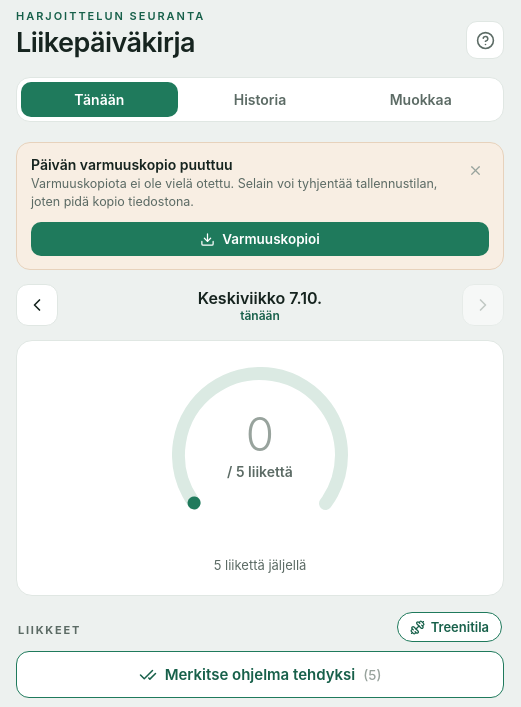
it: Historia range switching › draws the weekly trend chart for 30 pv without losing the view
Step 1. Click the button "Historia" → [260, 100], box [182, 82, 338, 117]
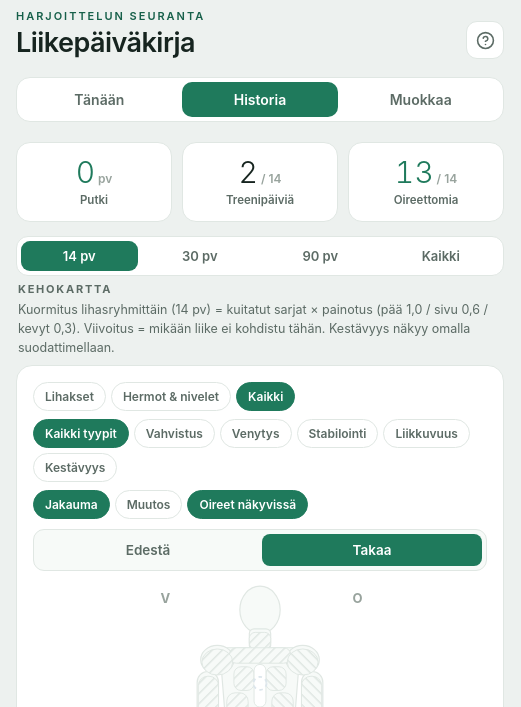
Now the button "30 pv" is shown
Step 2. Click the button "30 pv" → [200, 256], box [142, 241, 258, 271]
(page scrolled)
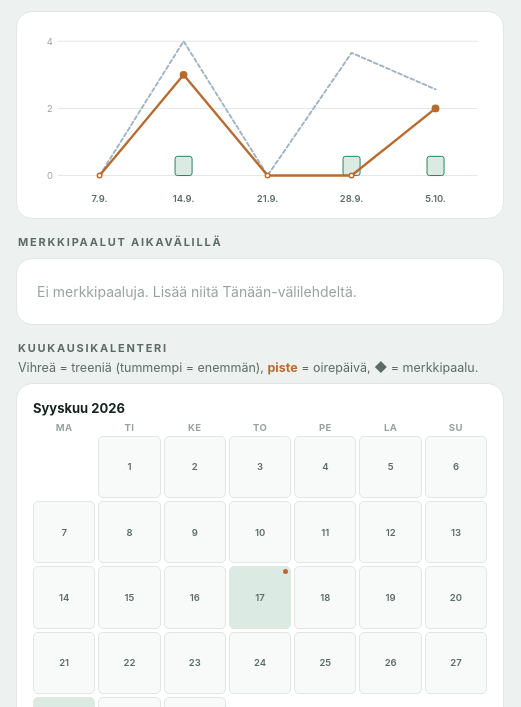
Now the picture "0 2 4 7.9. 14.9. 21.9. 28.9. 5.10." is shown, box [33, 28, 487, 208]
Now the text "Kuukausikalenteri" is shown, box [18, 341, 168, 355]
